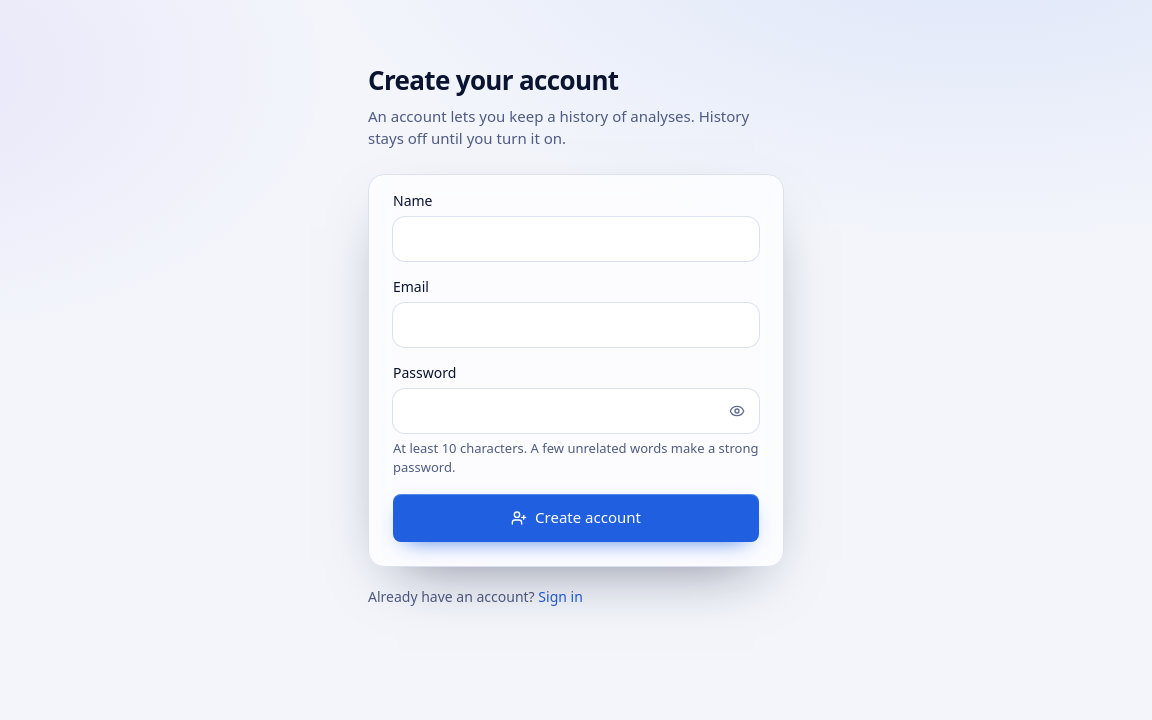
AuthForm › puts a duplicate-email error on the email field
The image size is (1152, 720).
Type "Ayse" into the field labelled "Name".
click(576, 238); type("Ayse")  # box [393,216,759,260]
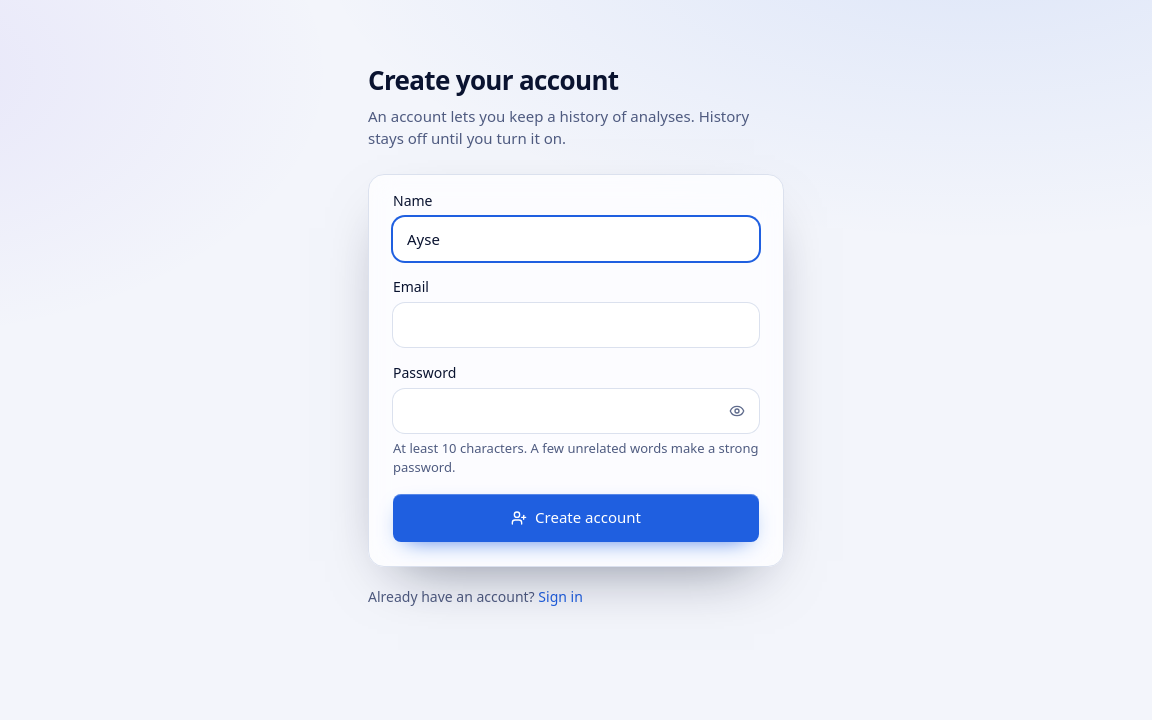
Type "ayse@example.com" into the field labelled "Email".
click(576, 324); type("ayse@example.com")  # box [393,302,759,346]
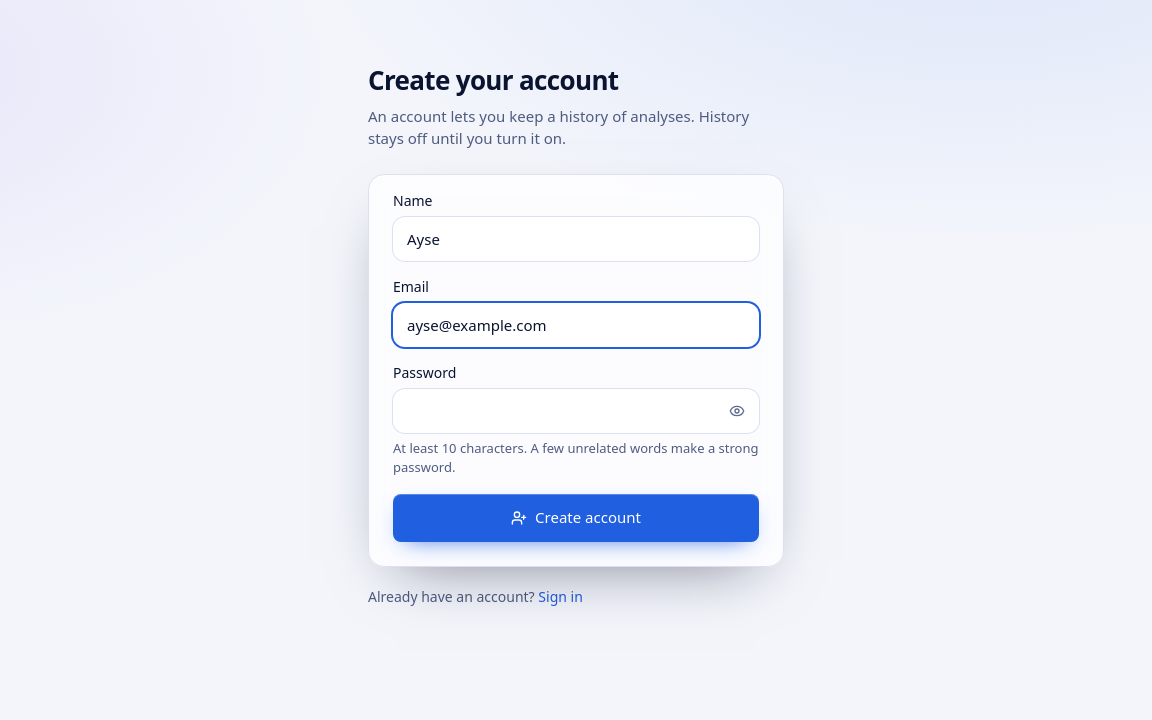
Type "correct horse battery" into the password field labelled "Password".
click(576, 410); type("correct horse battery")  # box [393,388,759,432]
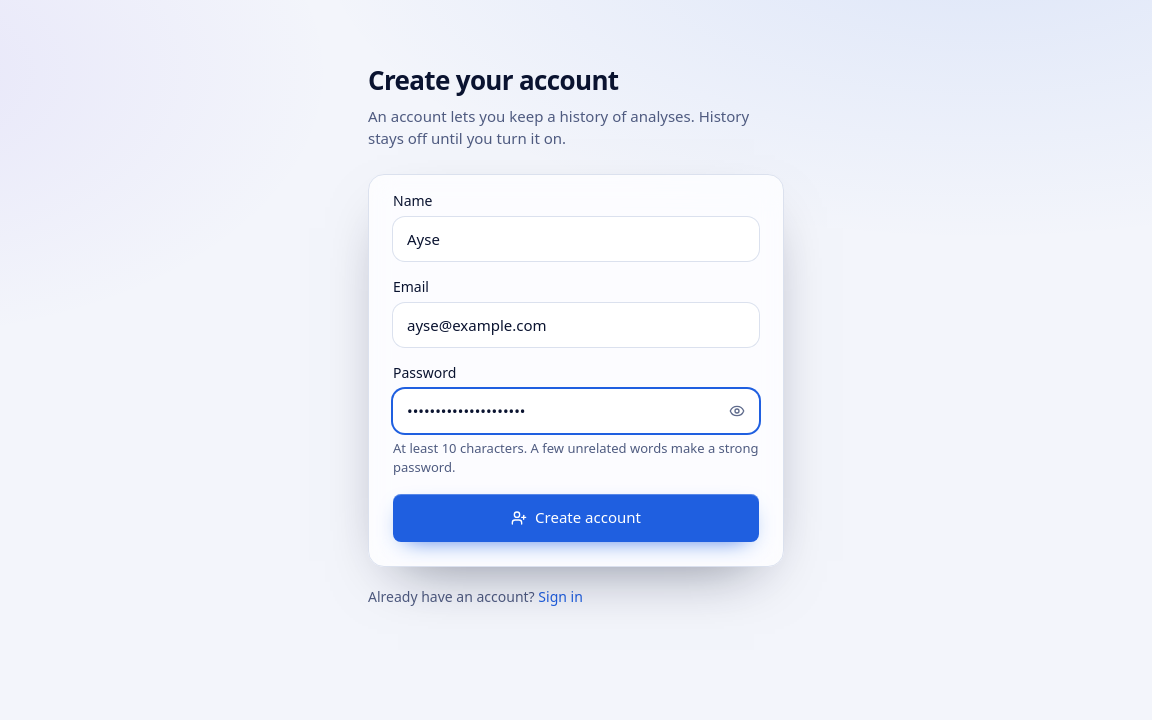
Click the button "Create account".
click(576, 518)  # box [393,494,759,542]
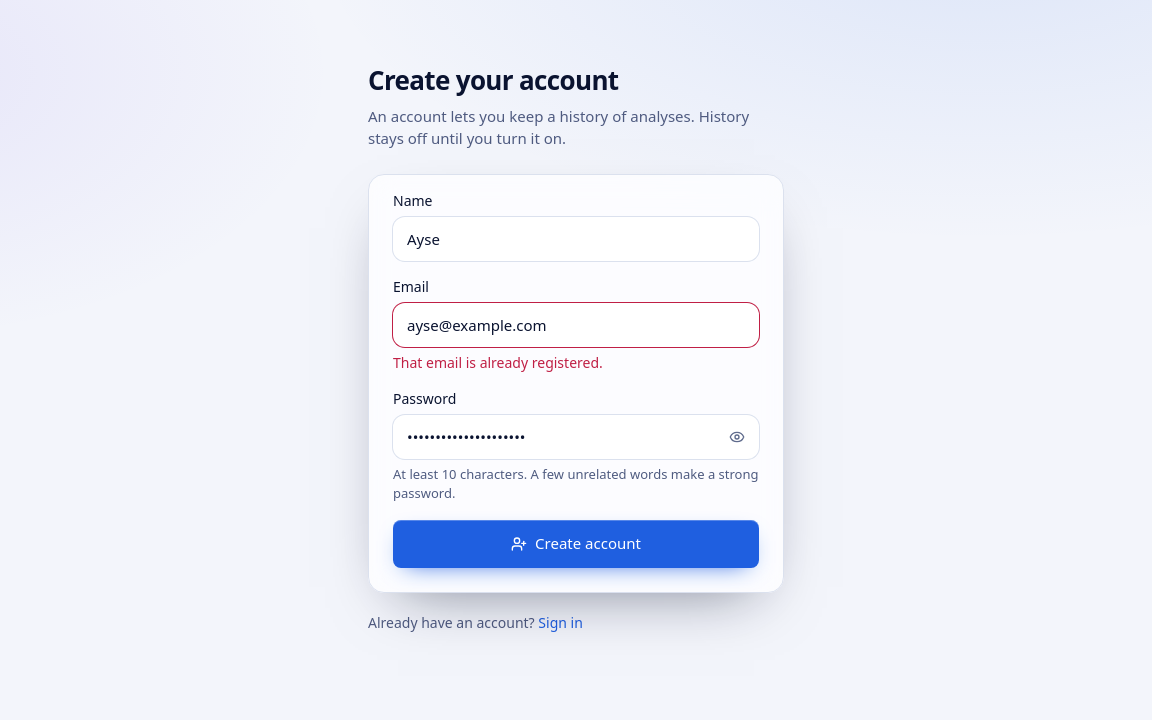
Expected: the text "That email is already registered." is shown, [393,352,603,372]
